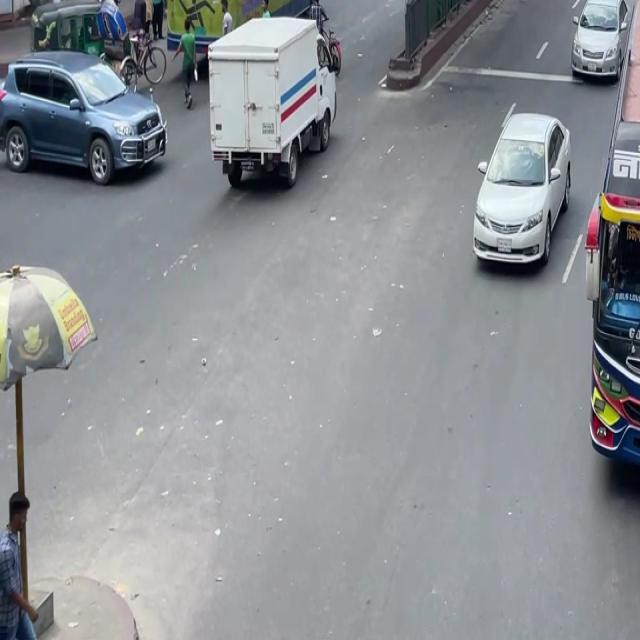bus: (594, 17, 640, 470)
car: (3, 26, 170, 203), (466, 100, 578, 279), (566, 0, 632, 92)
rickshaw: (28, 3, 112, 67)
van: (205, 12, 336, 187)
